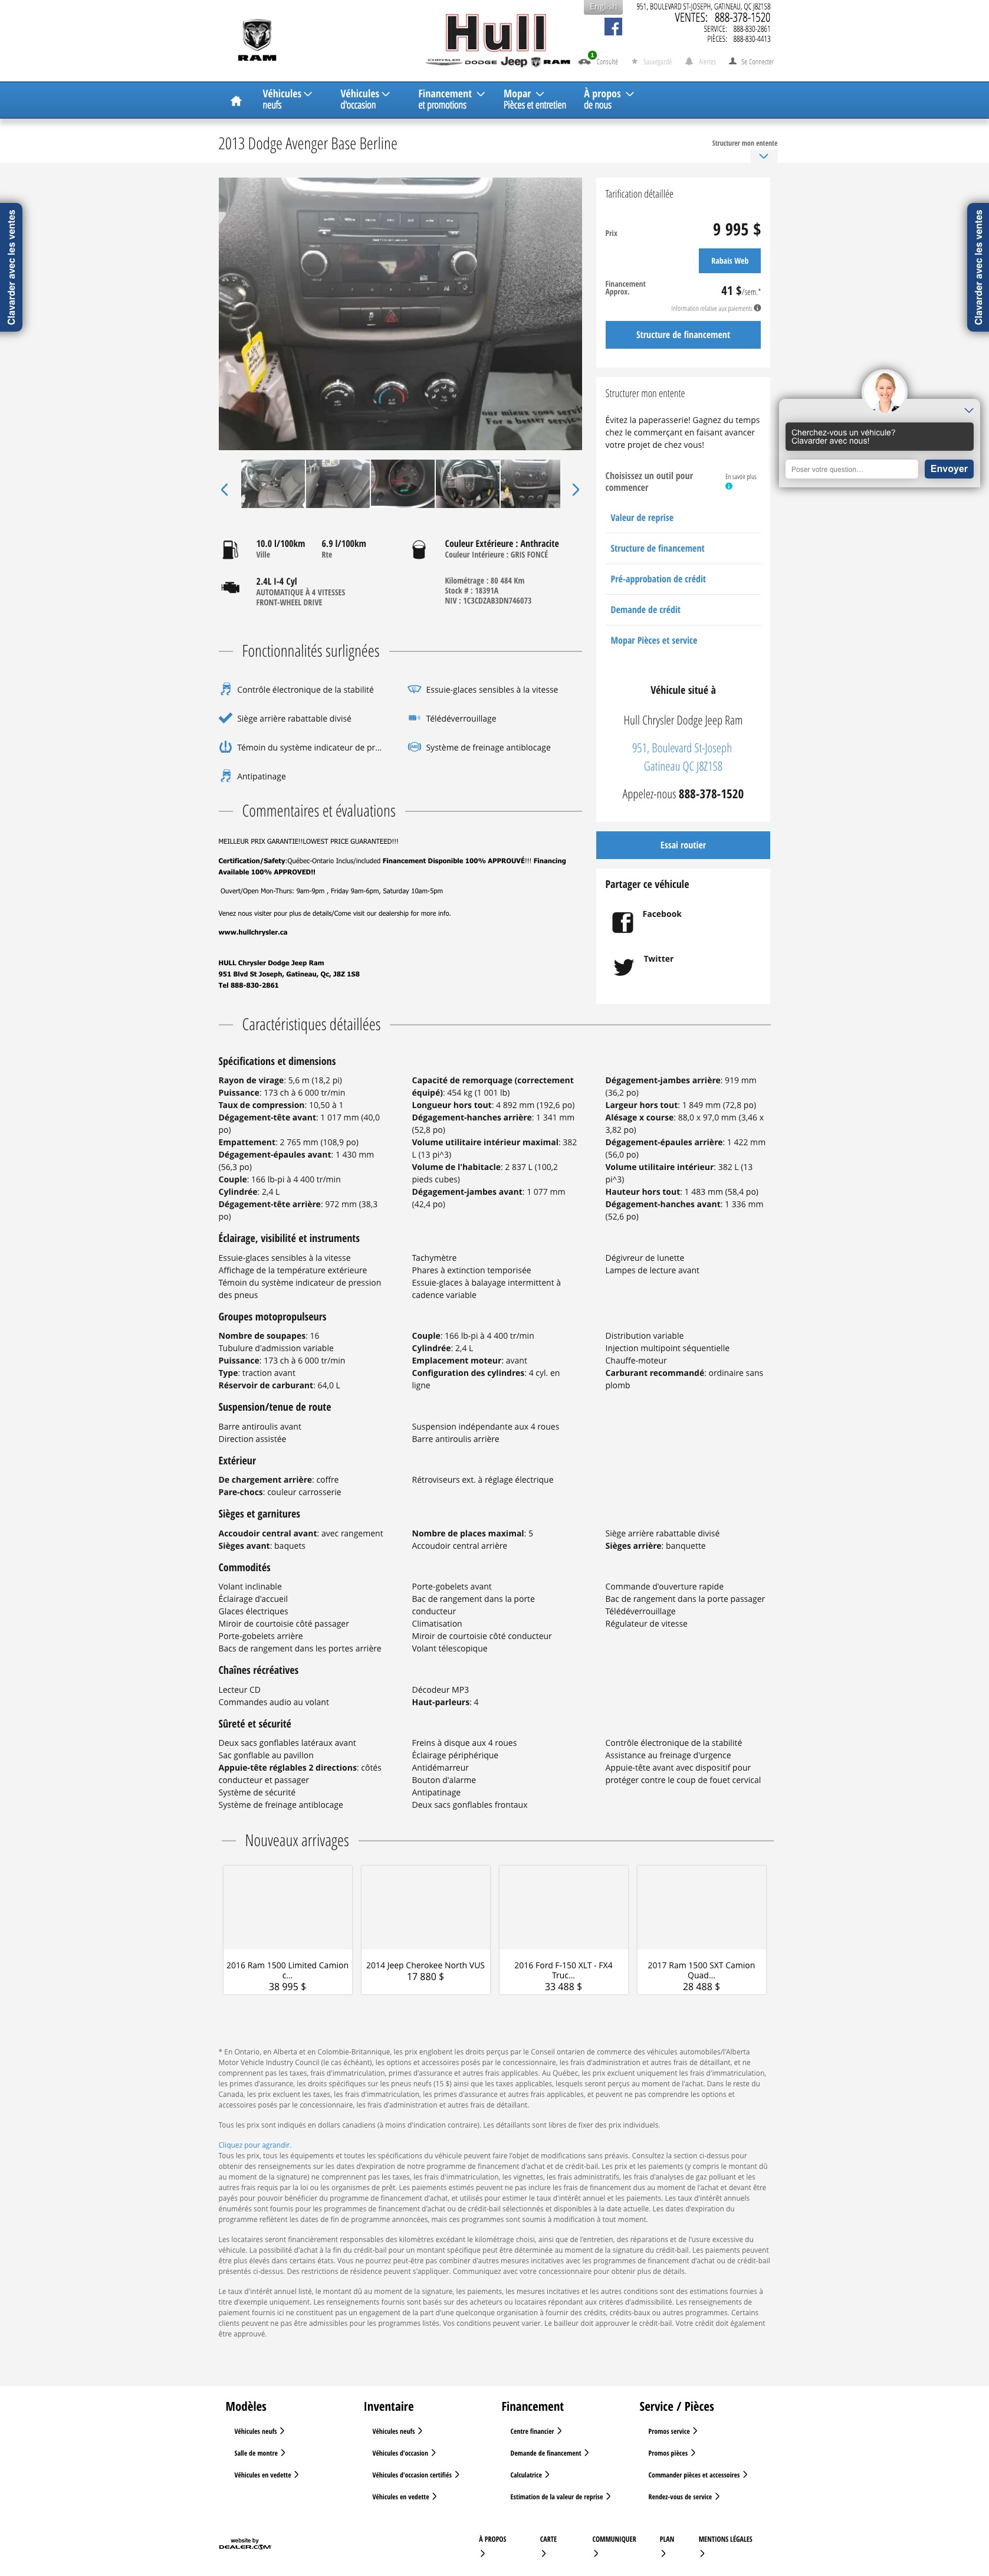car: (572, 483, 580, 496)
